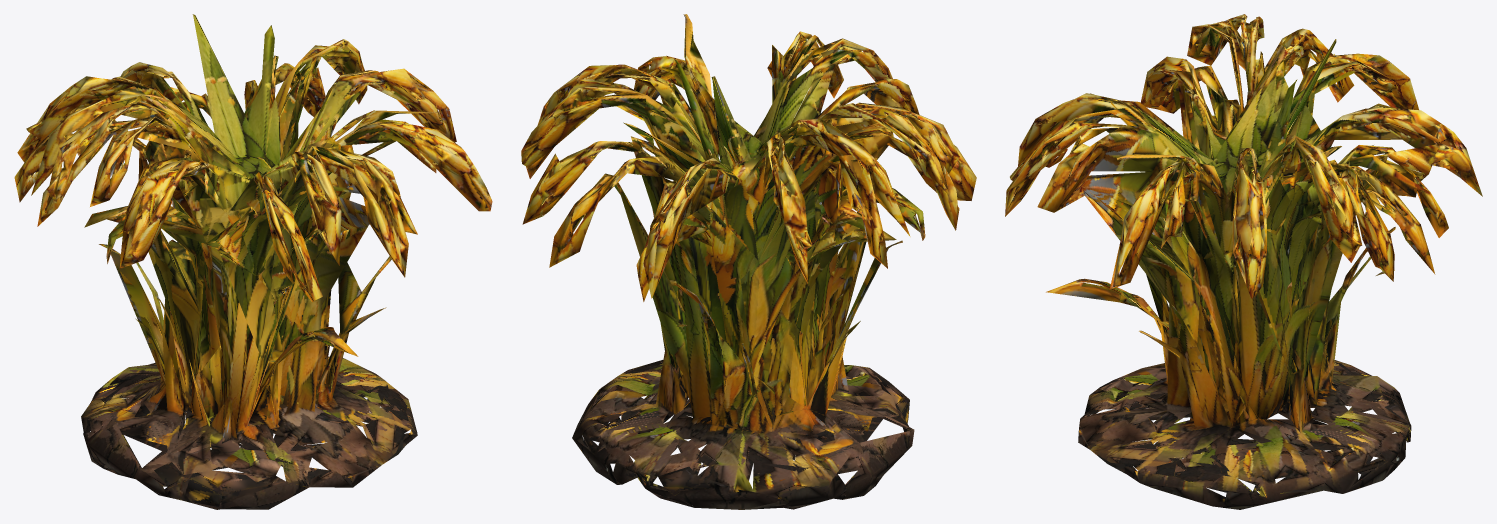
The model's file is Crop_Rice_Ready.fbx.
3 renders of one model, left to right at view 1: azimuth 30°, elevation 25°; view 2: azimuth 150°, elevation 25°; view 3: azimuth 270°, elevation 25°, orthographic.
Visible parts, largest first — view 1: texture_mapping; view 2: texture_mapping; view 3: texture_mapping.
Part boxes in pixels (<box>): texture_mapping: <box>14,14,492,509</box>; texture_mapping: <box>521,14,976,509</box>; texture_mapping: <box>1005,14,1482,509</box>.
Size of the model in its own units: 0.9687 by 0.9557 by 0.8847.
Materials: 1 (1 with a texture image).
